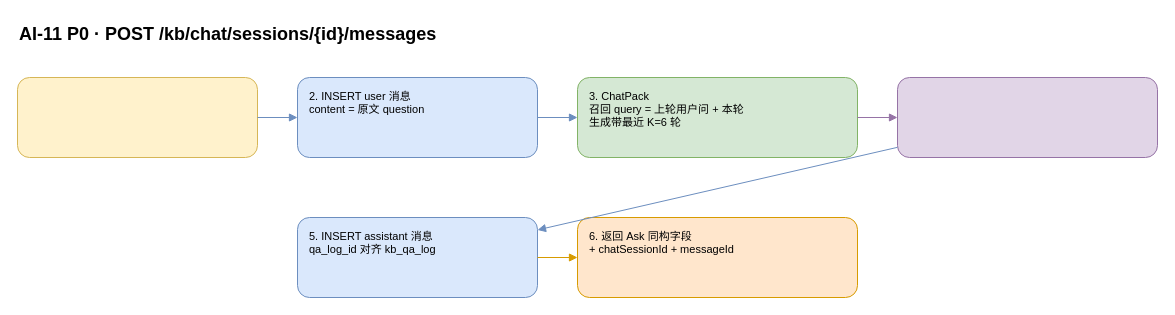
Some shapes in this 1175 by 315 pixel diagram are drawn without their labels. Here are the shapes that lost their labels. From the top down, the box of each, then its label:
(16, 76, 258, 158): 1. 校验 session.user_id = 当前 Shiro 用户
(896, 76, 1158, 158): 4. ask(req, pack) Guardrails 看本轮原文 跳过语义缓存
